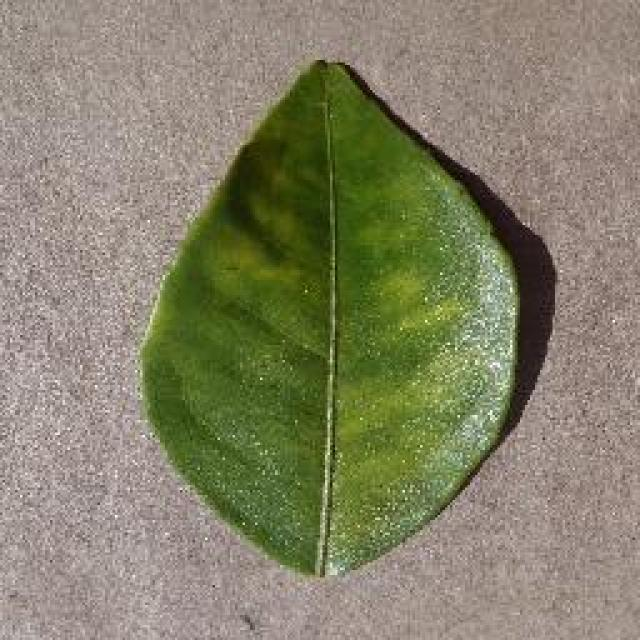Orange_Haunglongbing_Citrus_greening: (180, 123, 484, 548)
